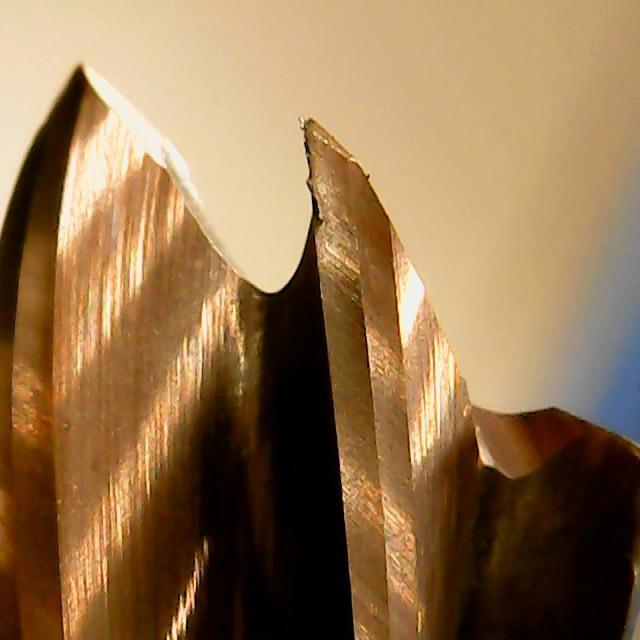Tool-wear-class-1: (298, 116, 409, 359)
